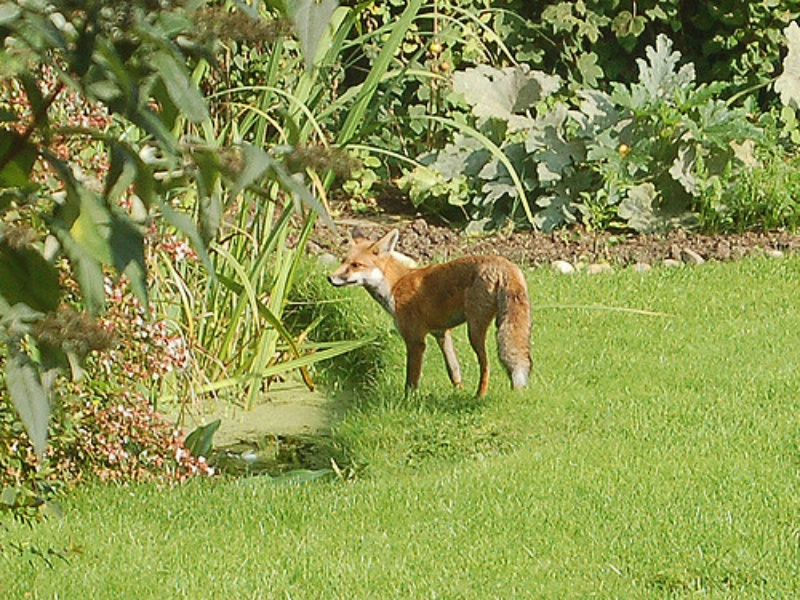fox: (321, 229, 543, 411)
